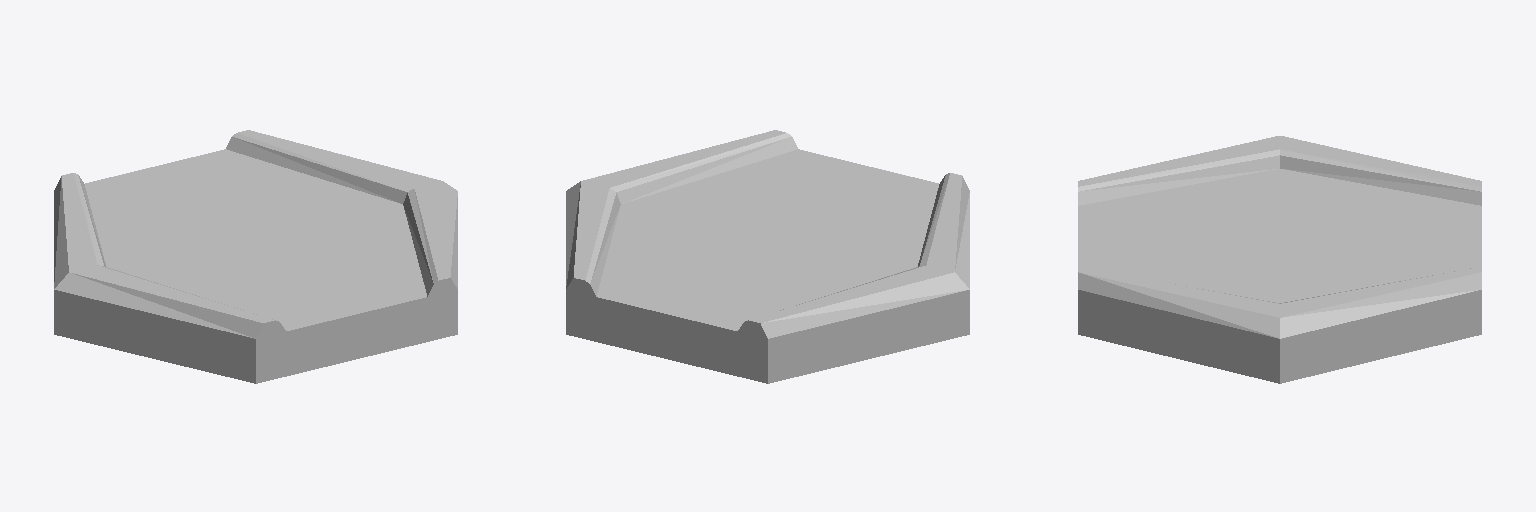
Rendered from start.obj.
3 renders of one model, left to right at view 1: azimuth 30°, elevation 25°; view 2: azimuth 150°, elevation 25°; view 3: azimuth 270°, elevation 25°, orthographic.
Parts seen in each view (by area): view 1: start; view 2: start; view 3: start.
Part boxes in pixels (x1,y1,x2,y2): start: (54,130,457,383); start: (566,130,969,383); start: (1078,136,1481,383).
Bounding box in the file's own units: 2 × 0.2777 × 1.73.